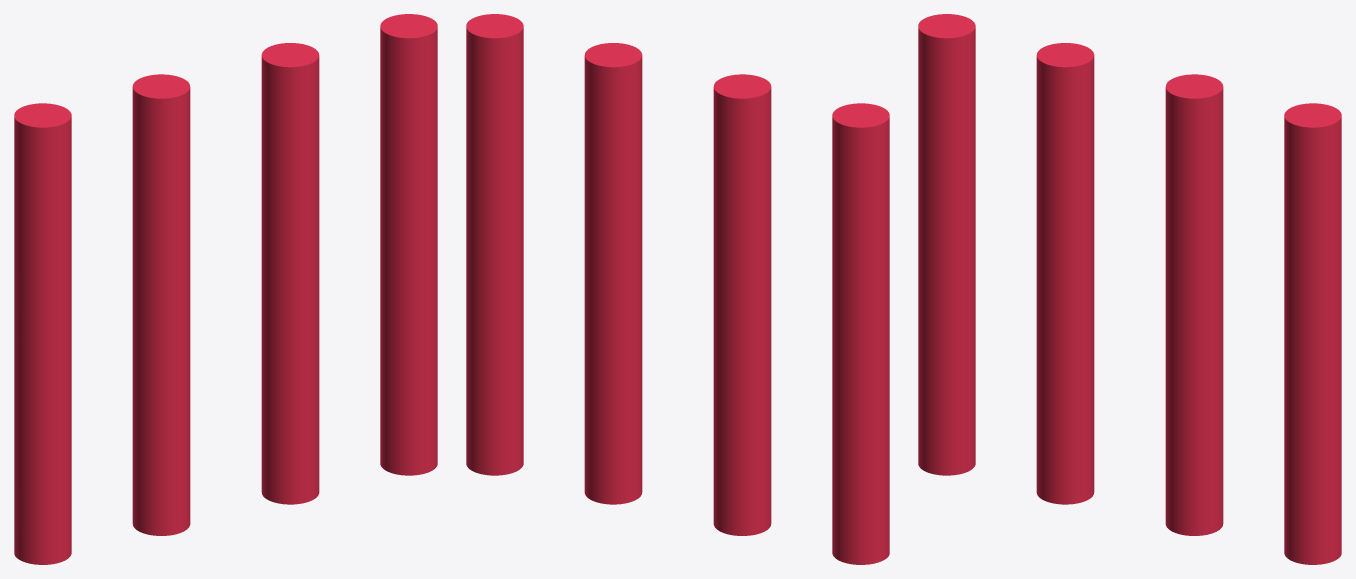
Rendered from BarsDone.fbx.
3 views of the same model, side by side, from view 1: azimuth 30°, elevation 25°; view 2: azimuth 150°, elevation 25°; view 3: azimuth 330°, elevation 25° (orthographic).
Visible parts, largest first — view 1: Cylinder.008; view 2: Cylinder.008; view 3: Cylinder.008.
Boxes of the visible parts, bbox=[...] form: Cylinder.008: bbox=[14, 14, 437, 564]; Cylinder.008: bbox=[466, 14, 889, 564]; Cylinder.008: bbox=[918, 14, 1341, 564].
Size of the model in its own units: 80.33 by 80.69 by 9.64.
1 material, 1 textured.
